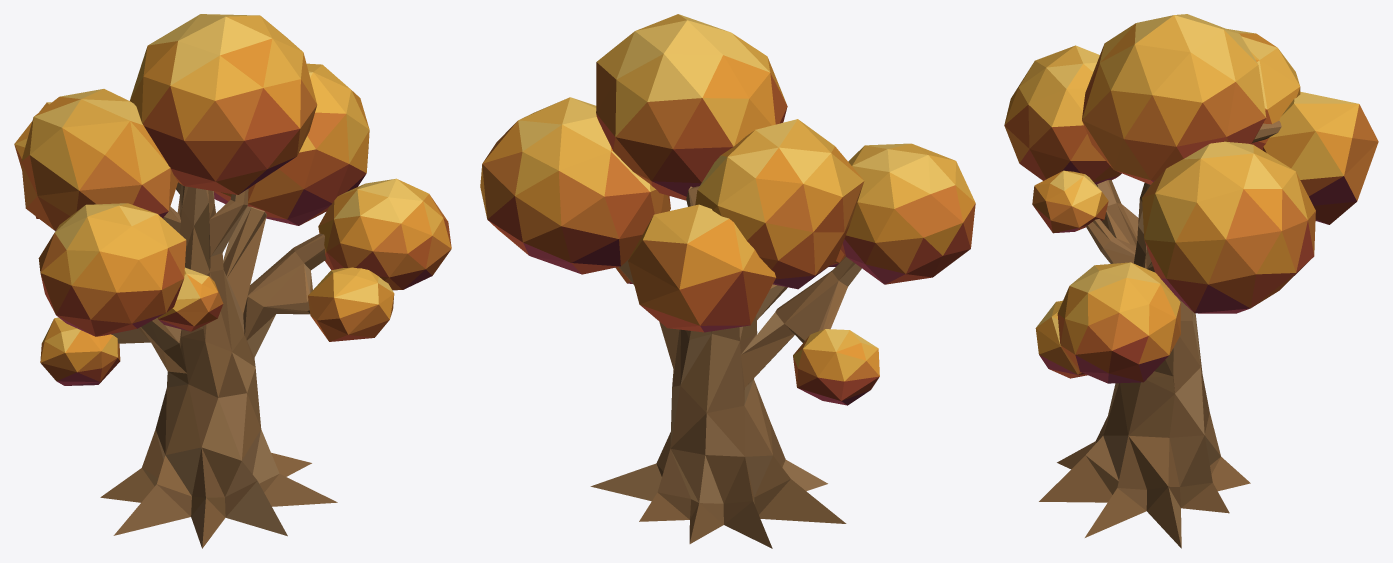
The model's file is tree.glb.
3 renders of one model, left to right at view 1: azimuth 30°, elevation 25°; view 2: azimuth 150°, elevation 25°; view 3: azimuth 270°, elevation 25°, orthographic. The views are drawn at different scales.
Parts seen in each view (by area): view 1: Tree | foliage 01 • high central crown, Tree | trunk, roots and branches; view 2: Tree | foliage 01 • high central crown, Tree | trunk, roots and branches; view 3: Tree | foliage 01 • high central crown, Tree | trunk, roots and branches.
Part boxes in pixels (left/top/right/bottom): Tree | foliage 01 • high central crown: left=14, top=14, right=451, bottom=385; Tree | trunk, roots and branches: left=100, top=182, right=337, bottom=548; Tree | foliage 01 • high central crown: left=480, top=14, right=975, bottom=405; Tree | trunk, roots and branches: left=590, top=186, right=861, bottom=548; Tree | foliage 01 • high central crown: left=1004, top=14, right=1378, bottom=383; Tree | trunk, roots and branches: left=1039, top=121, right=1281, bottom=548.
Bounding box in the file's own units: 7.57 × 8.14 × 5.66.
